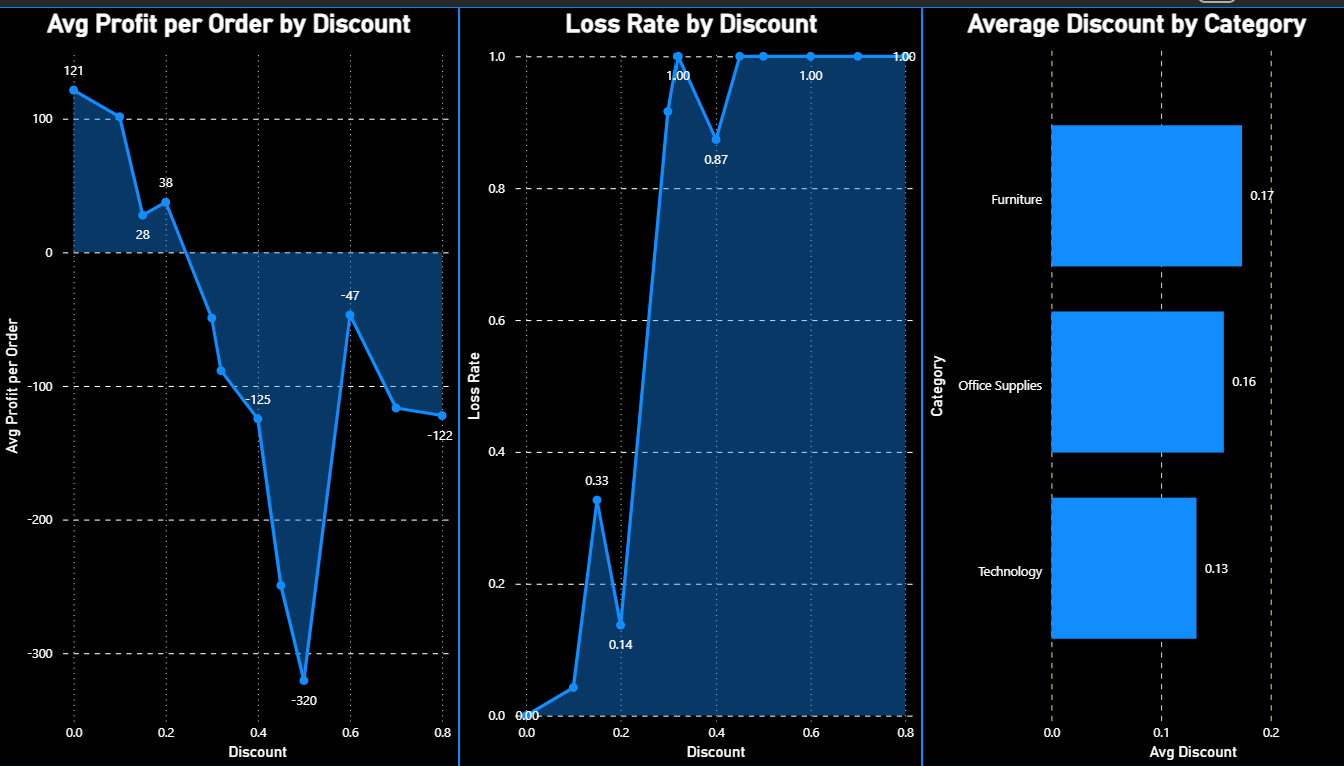

Layout of this report page (visuals, bound fields, positions):
{"tool":"powerbi","page":{"name":"Discount Analysis","canvas":[1280,720],"ordinal":1},"visuals":[{"type":"lineChart","fields":{"Category":["superstore.Discount"],"Y":["superstore.Avg Profit per Order"]},"box":[0,0,437.4,719.5],"z":0},{"type":"lineChart","fields":{"Category":["superstore.Discount"],"Y":["superstore.Loss Rate"]},"box":[437.4,0,437.4,719.5],"z":1000},{"type":"clusteredBarChart","title":"Average Discount by Category","fields":{"Category":["superstore.Category"],"Y":["superstore.Avg Discount"]},"box":[874.8,0,405.2,719.5],"z":2000}]}

Visuals, with their boxes in screenshot pixels (x1, y1, x2, y2), scaled from the page's 1280x720 canvas onto the 1344x766 screenshot:
lineChart - superstore.Discount x superstore.Avg Profit per Order: bbox(0, 0, 459, 765)
lineChart - superstore.Discount x superstore.Loss Rate: bbox(459, 0, 919, 765)
"Average Discount by Category" clusteredBarChart: bbox(919, 0, 1343, 765)
